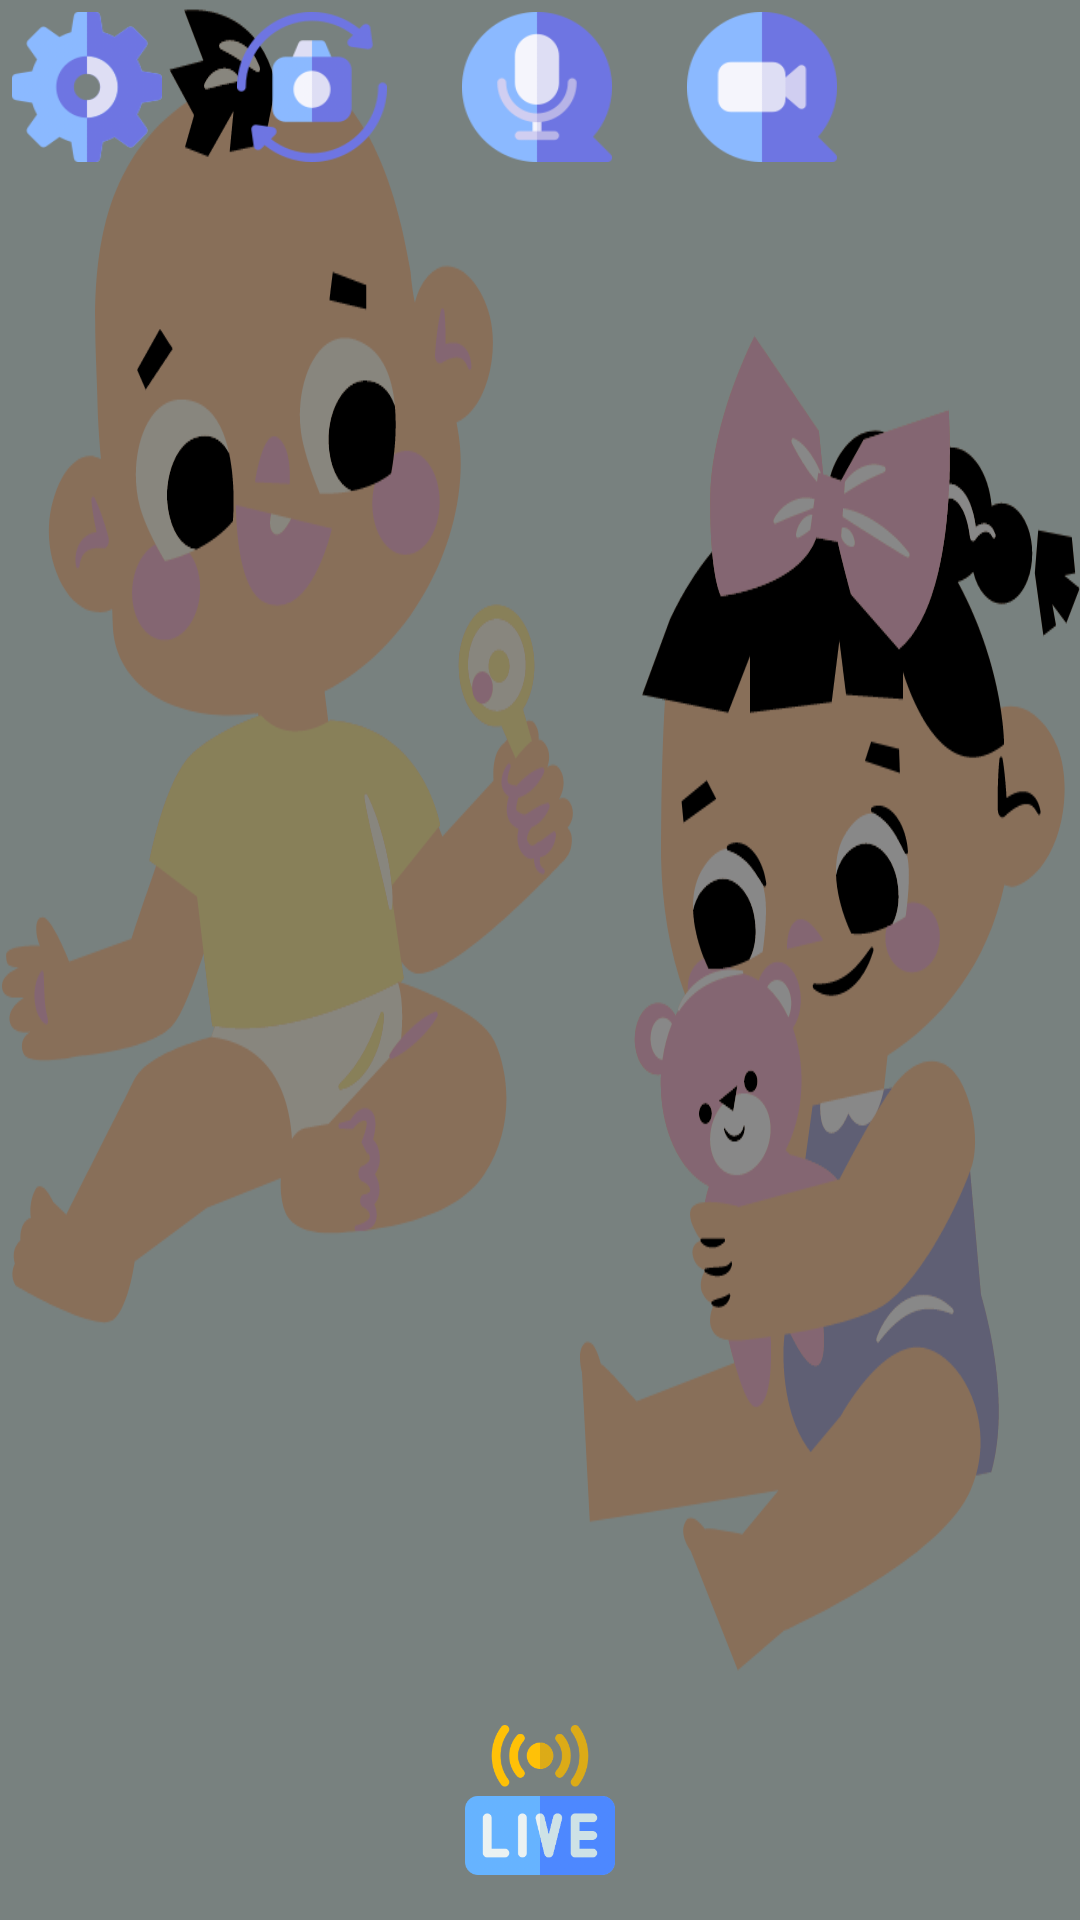

Where to tap for icons on this 1080*1920 app screen, as (x=x, y=y):
microphone: (x=537, y=87)
settings: (x=87, y=87)
switch camera: (x=312, y=87)
video: (x=762, y=87)
